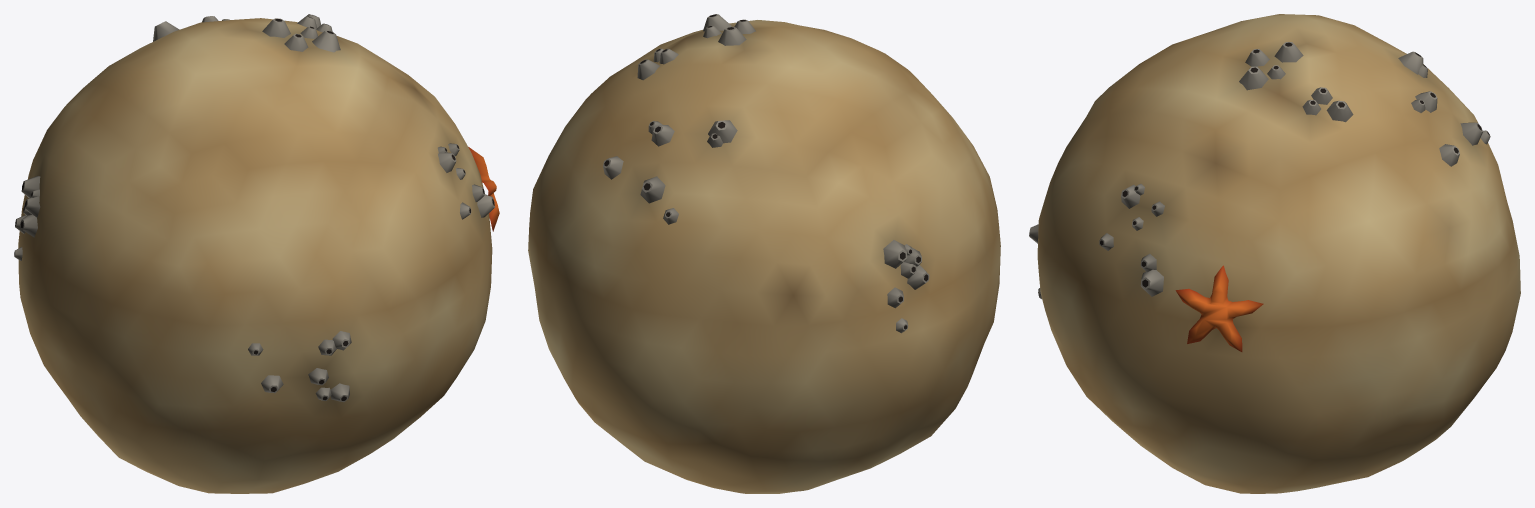
File: boulder_beach.glb
The picture shows the model from 3 angles, left to right: view 1: azimuth 30°, elevation 25°; view 2: azimuth 150°, elevation 25°; view 3: azimuth 270°, elevation 25°; orthographic projection.
Parts seen in each view (by area): view 1: shell; view 2: shell; view 3: shell.
Boxes of the visible parts, x1,y1,x2,y2 form: shell: (14,14,499,493); shell: (528,14,1000,493); shell: (1029,14,1520,493).
Size of the model in its own units: 1.82 by 1.83 by 1.84.
